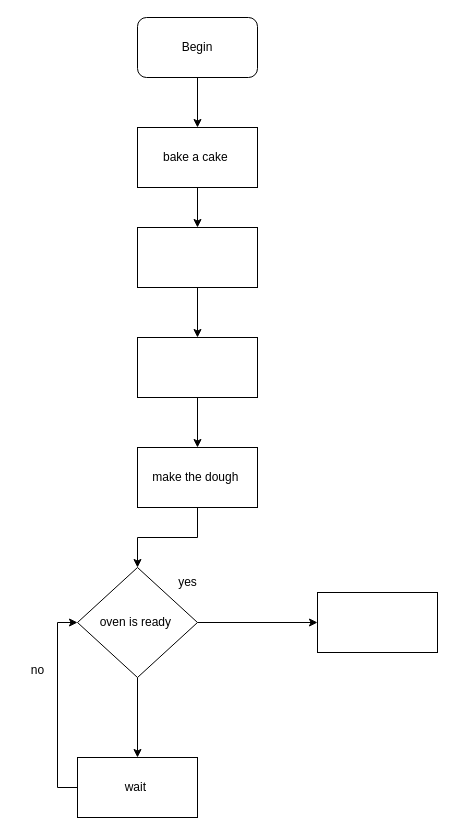
This 455x835 diagram has some shape labels left out. The centre of each missing label's shape, as x and y in pixels:
gather the ingredients: pixel 197 257
preheat the oven: pixel 197 367
put the cake in the oven: pixel 377 622
